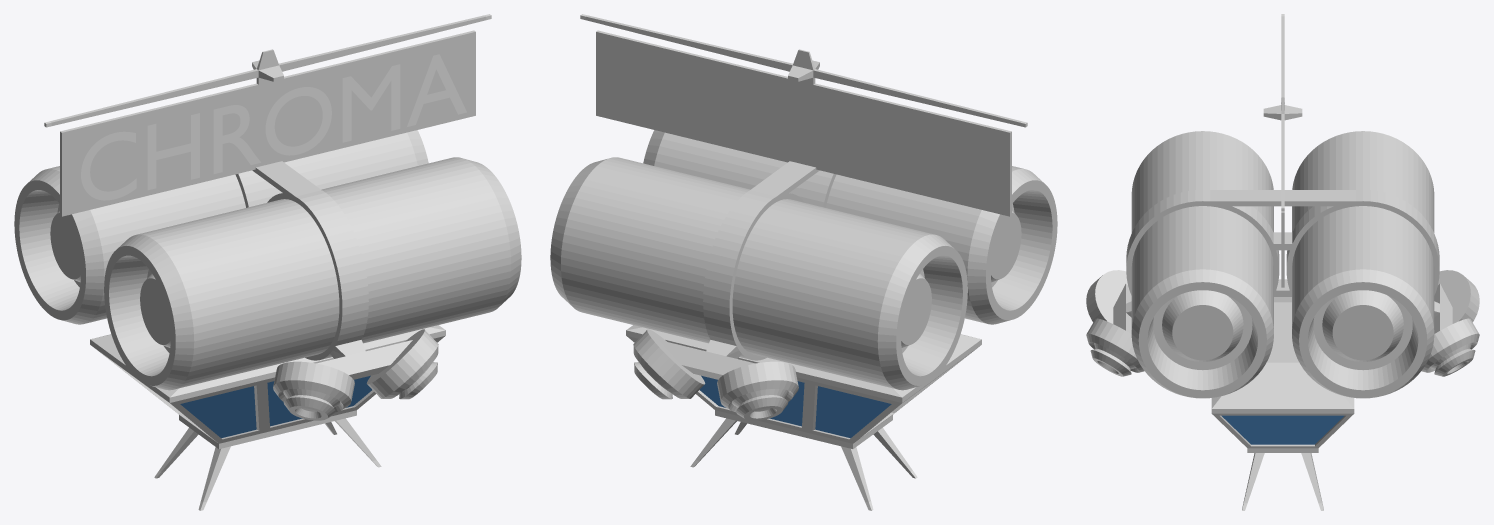
File: Chroma Blimp.fbx
3 views of the same model, side by side, from view 1: azimuth 30°, elevation 25°; view 2: azimuth 150°, elevation 25°; view 3: azimuth 270°, elevation 25° (orthographic). The views are drawn at different scales.
Parts seen in each view (by area): view 1: Cylinder, Cube, CHROMA, Cube.001; view 2: Cylinder, Cube, Cube.001; view 3: Cylinder, Cube, Cube.001.
Boxes of the visible parts, bbox=[...] form: Cylinder: bbox=[14, 14, 521, 420]; Cube: bbox=[90, 325, 445, 448]; CHROMA: bbox=[81, 54, 466, 200]; Cube.001: bbox=[154, 418, 381, 510]; Cylinder: bbox=[550, 14, 1057, 420]; Cube: bbox=[626, 325, 981, 448]; Cube.001: bbox=[690, 418, 917, 510]; Cylinder: bbox=[1086, 14, 1479, 398]; Cube: bbox=[1211, 297, 1354, 452]; Cube.001: bbox=[1242, 453, 1323, 510].
Size of the model in its own units: 1290 by 1166 by 1105.
